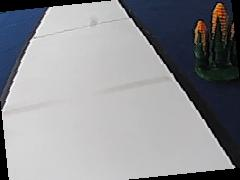corn: (189, 0, 239, 78)
